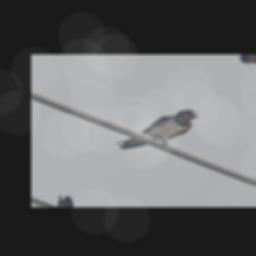Swallow: (113, 99, 205, 162)
